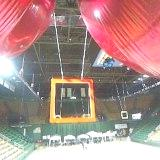Orange_Square_GShape: (51, 78, 95, 122)
Yellow_Square_GShape: (120, 110, 129, 120)
